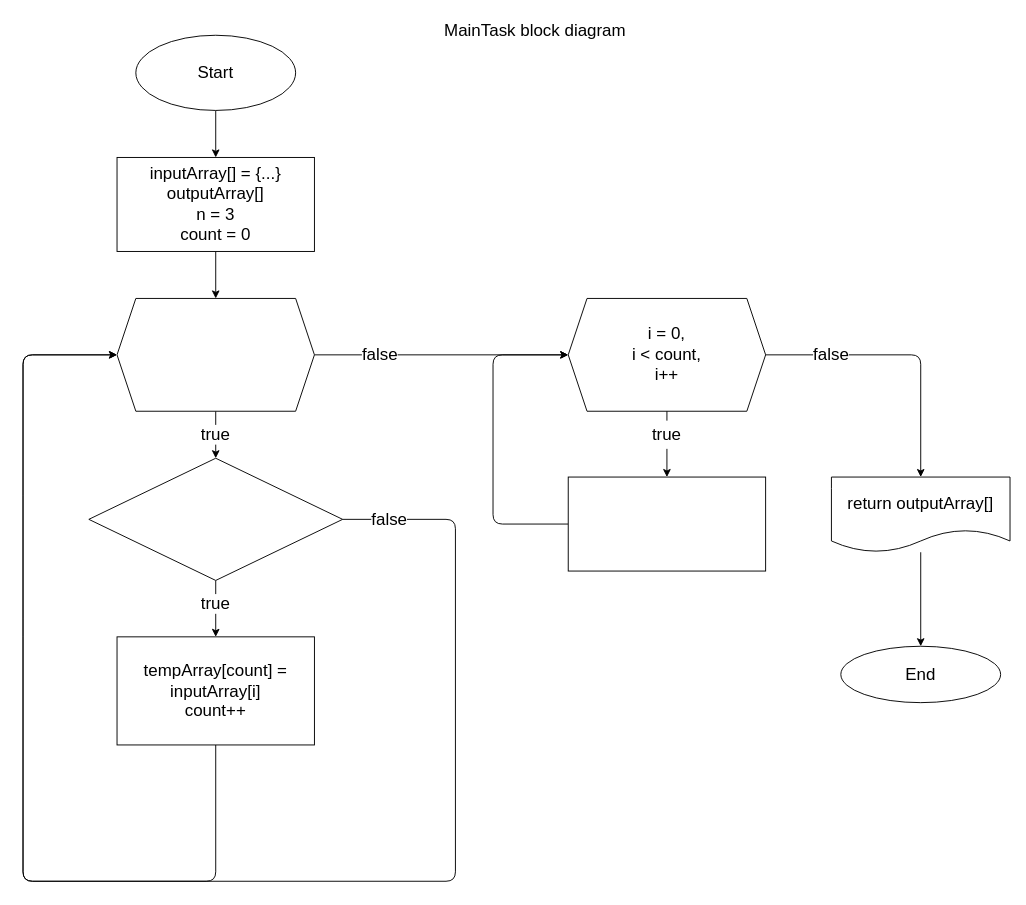
Image size: 1026x905. Some labels were removed from this diagram. Here are the shapes that lost their labels. From the top down, the centre of each, then its label:
At (215,354): "i = 0, i < inputArray.Length, i++".
At (215,518): "inputArray[i].Length <= 3".
At (666,523): "outputArray[i] = tempArray[i]".
